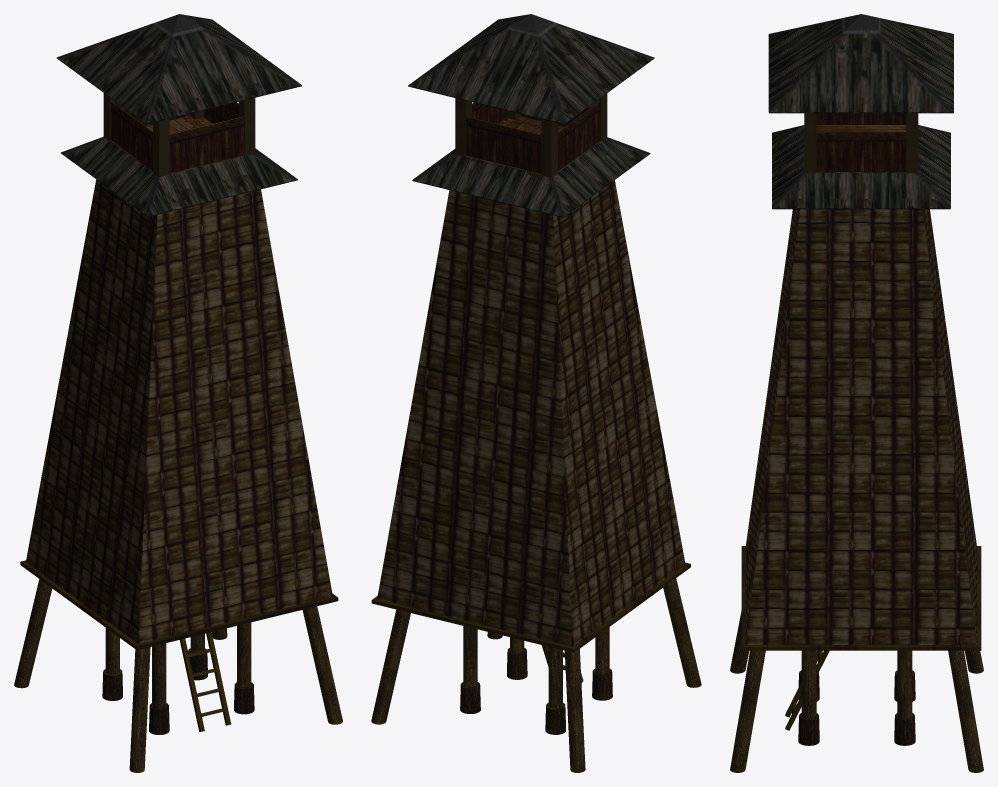
File: es_hinomi.glb
3 views of the same model, side by side, from view 1: azimuth 30°, elevation 25°; view 2: azimuth 150°, elevation 25°; view 3: azimuth 270°, elevation 25° (orthographic). The views are drawn at different scales.
Visible parts, largest first — view 1: hinomiyagura; view 2: hinomiyagura; view 3: hinomiyagura.
Boxes of the visible parts, x1=… form: hinomiyagura: x1=14, y1=14, x2=342, y2=772; hinomiyagura: x1=371, y1=14, x2=701, y2=772; hinomiyagura: x1=730, y1=14, x2=983, y2=772.
Size of the model in its own units: 2.57 by 8 by 2.6.
Materials: 1 (1 with a texture image).
